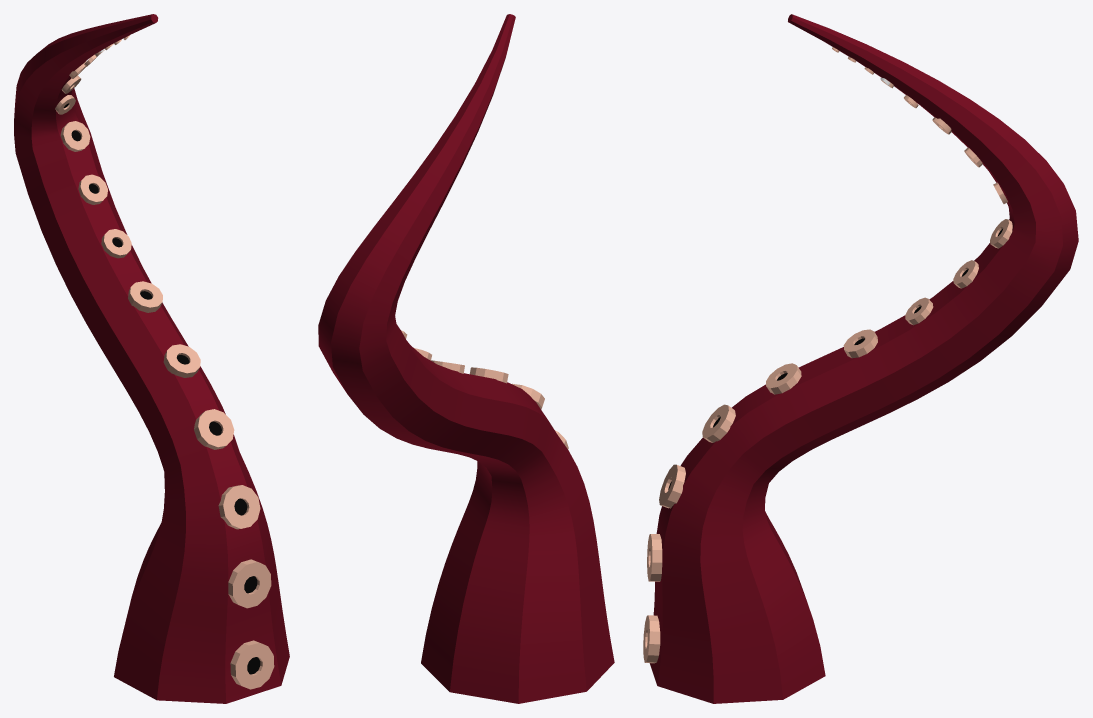
The model's file is Red_Tentacle.fbx.
3 renders of one model, left to right at view 1: azimuth 30°, elevation 25°; view 2: azimuth 150°, elevation 25°; view 3: azimuth 270°, elevation 25°, orthographic. The views are drawn at different scales.
Visible parts, largest first — view 1: BezierCurve; view 2: BezierCurve; view 3: BezierCurve.
Boxes of the visible parts, x1,y1,x2,y2 form: BezierCurve: (14,14,289,703); BezierCurve: (318,14,614,703); BezierCurve: (643,14,1078,703).
Bounding box in the file's own units: 156 × 621 × 382.
